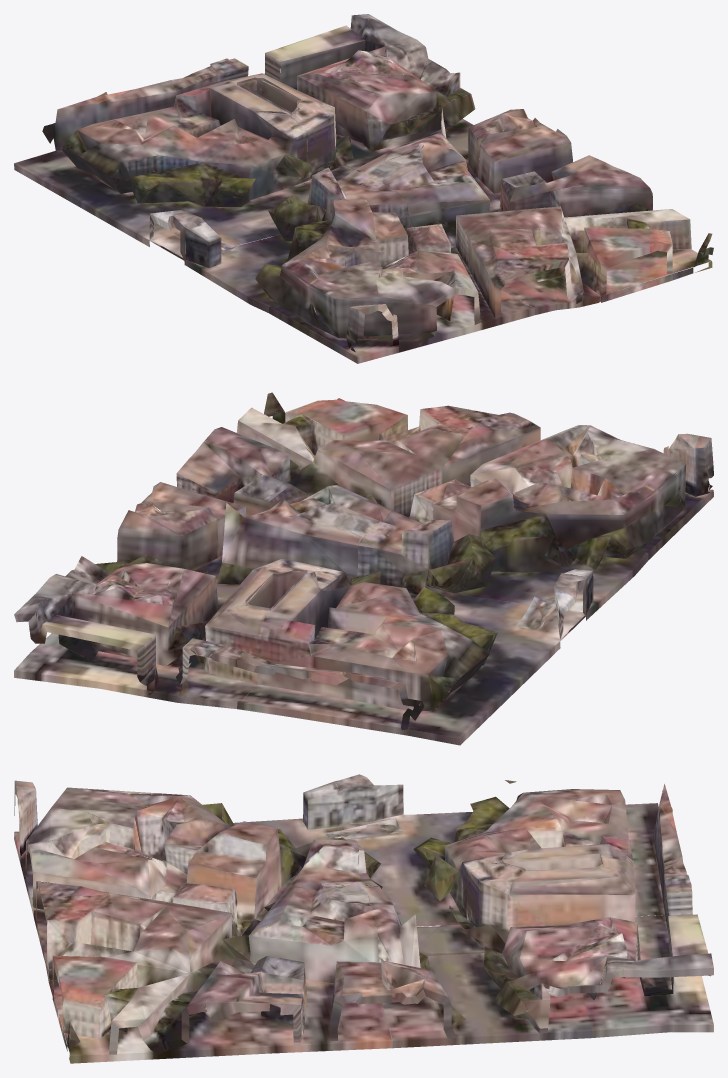
3 renders of one model, top to bottom at view 1: azimuth 30°, elevation 25°; view 2: azimuth 150°, elevation 25°; view 3: azimuth 270°, elevation 25°, orthographic. The views are drawn at different scales.
Parts seen in each view (by area): view 1: Mesh_0; view 2: Mesh_0; view 3: Mesh_0.
Boxes of the visible parts, x1,y1,x2,y2 form: Mesh_0: [14, 14, 713, 363]; Mesh_0: [14, 392, 713, 745]; Mesh_0: [14, 774, 713, 1063].
Bounding box in the file's own units: 267 × 50.83 × 330.
2 materials, 2 textured.
